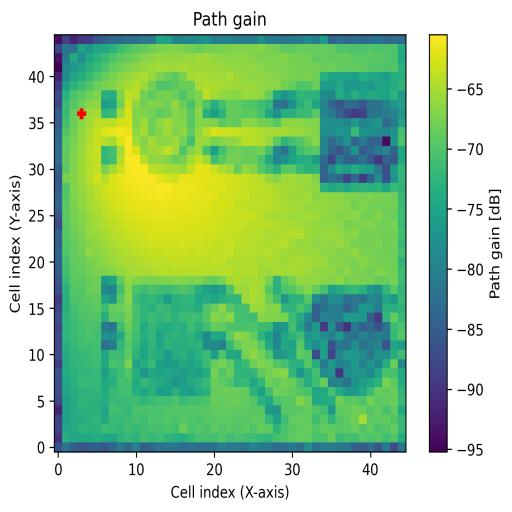Concrete: (320, 71, 398, 193)
Glass: (133, 72, 203, 182)
Metal: (297, 277, 391, 395)
Wood: (131, 286, 211, 396)
